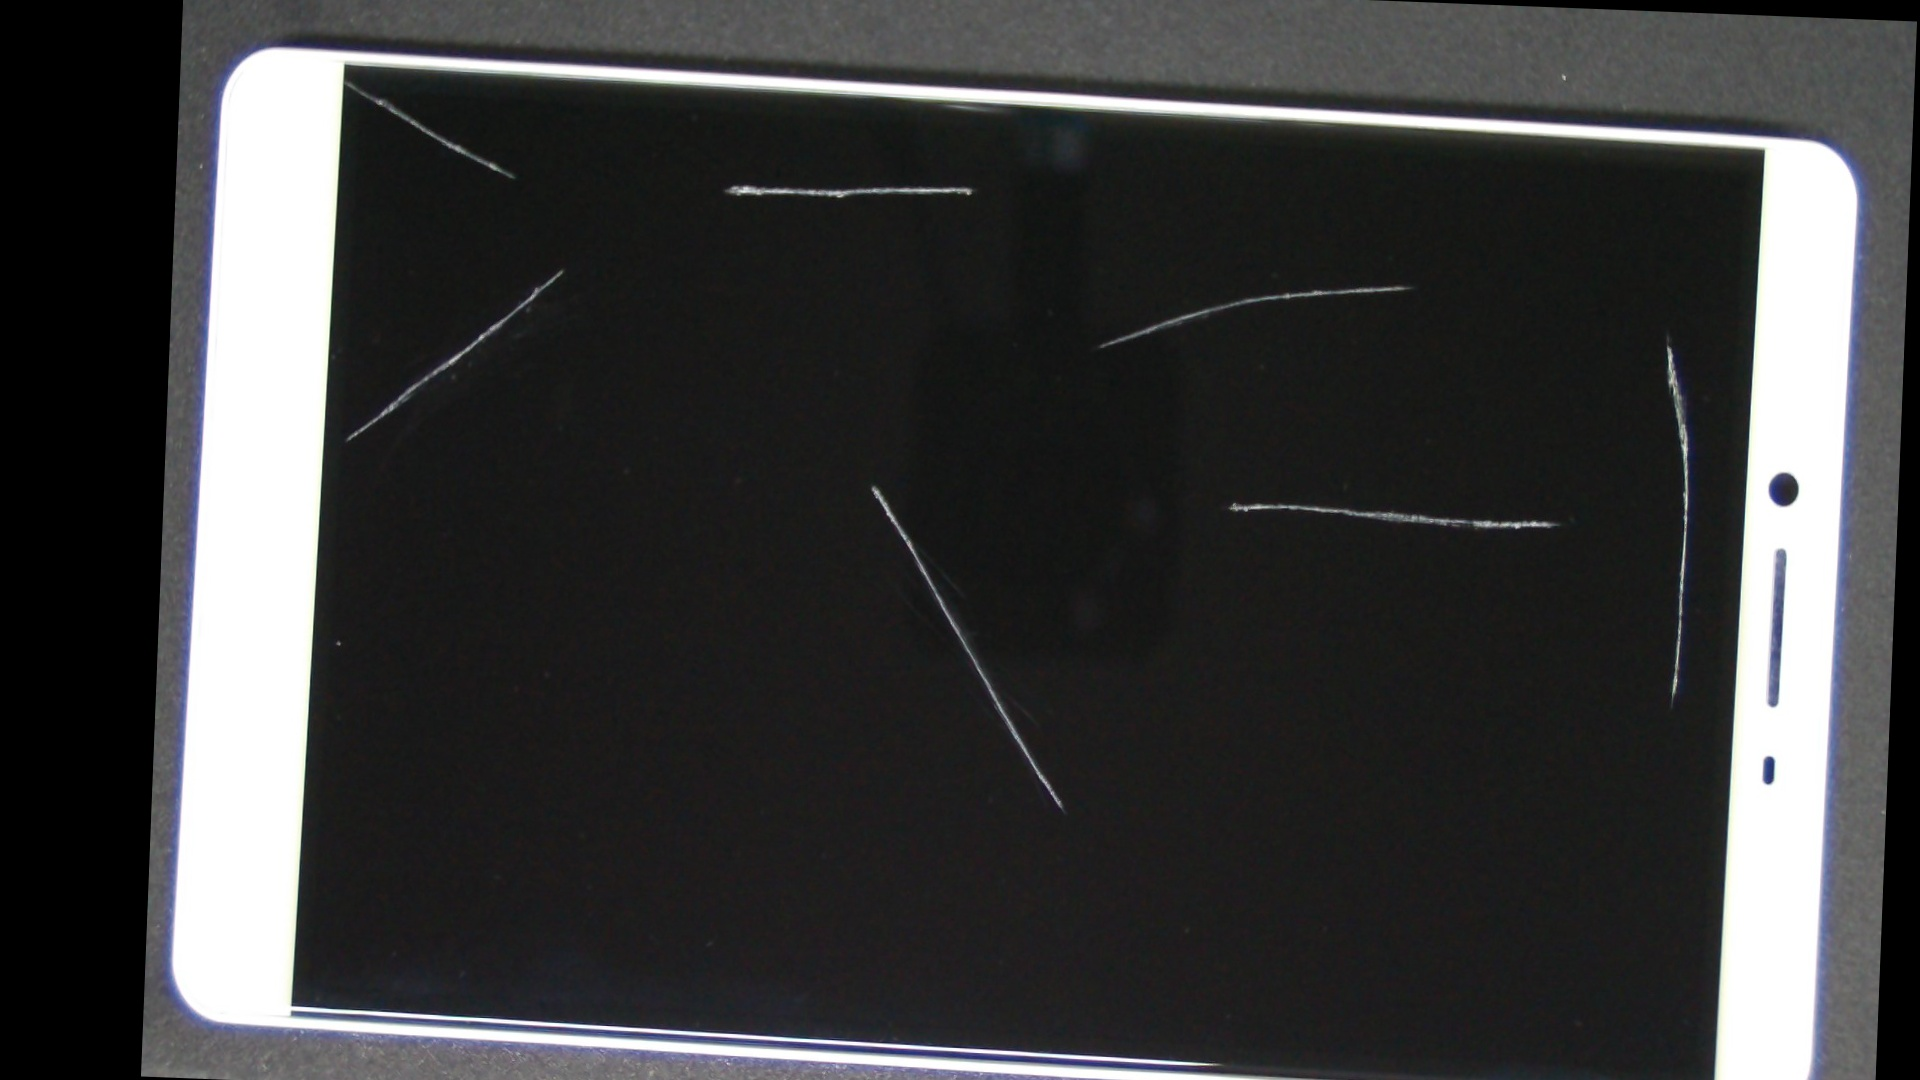oil: (712, 228, 1844, 778), (510, 218, 1236, 752), (913, 137, 1911, 514), (786, 119, 1912, 446), (555, 69, 1327, 302), (363, 109, 760, 427), (260, 15, 430, 145)
